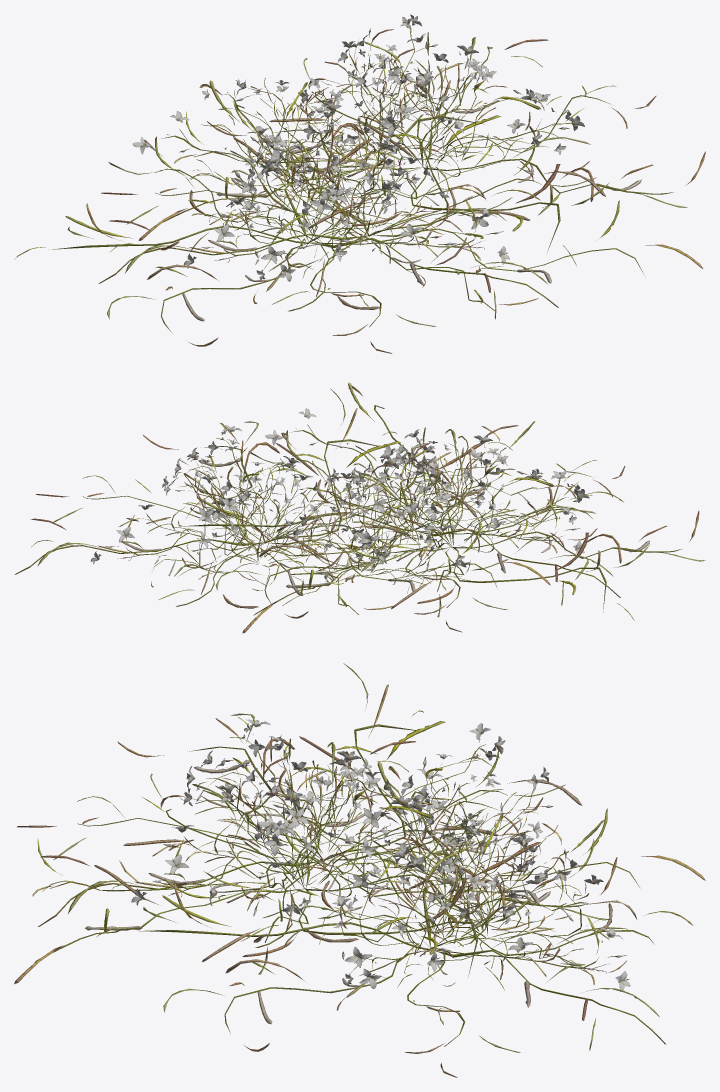
File: flower_heliophila_clump.fbx
3 renders of one model, top to bottom at view 1: azimuth 30°, elevation 25°; view 2: azimuth 150°, elevation 25°; view 3: azimuth 270°, elevation 25°, orthographic. The views are drawn at different scales.
Visible parts, largest first — view 1: flower_heliophila_clump; view 2: flower_heliophila_clump; view 3: flower_heliophila_clump.
Part boxes in pixels (bbox=[...]): flower_heliophila_clump: bbox=[14, 14, 705, 353]; flower_heliophila_clump: bbox=[14, 382, 705, 633]; flower_heliophila_clump: bbox=[14, 663, 705, 1077].
Bounding box in the file's own units: 0.8492 × 0.1365 × 0.6969.
Materials: 1 (1 with a texture image).
